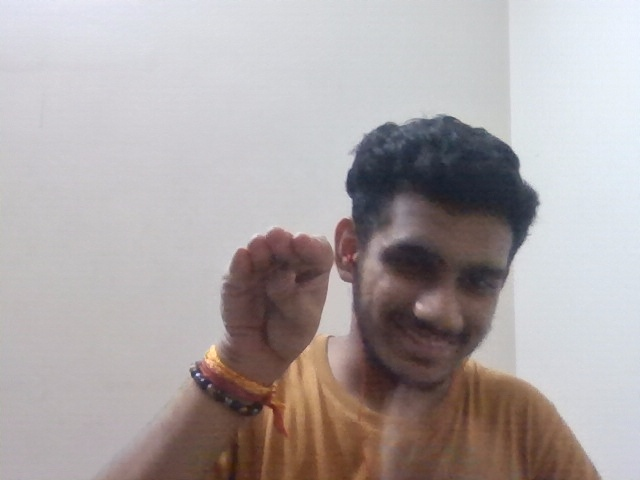no: (198, 229, 357, 378)
